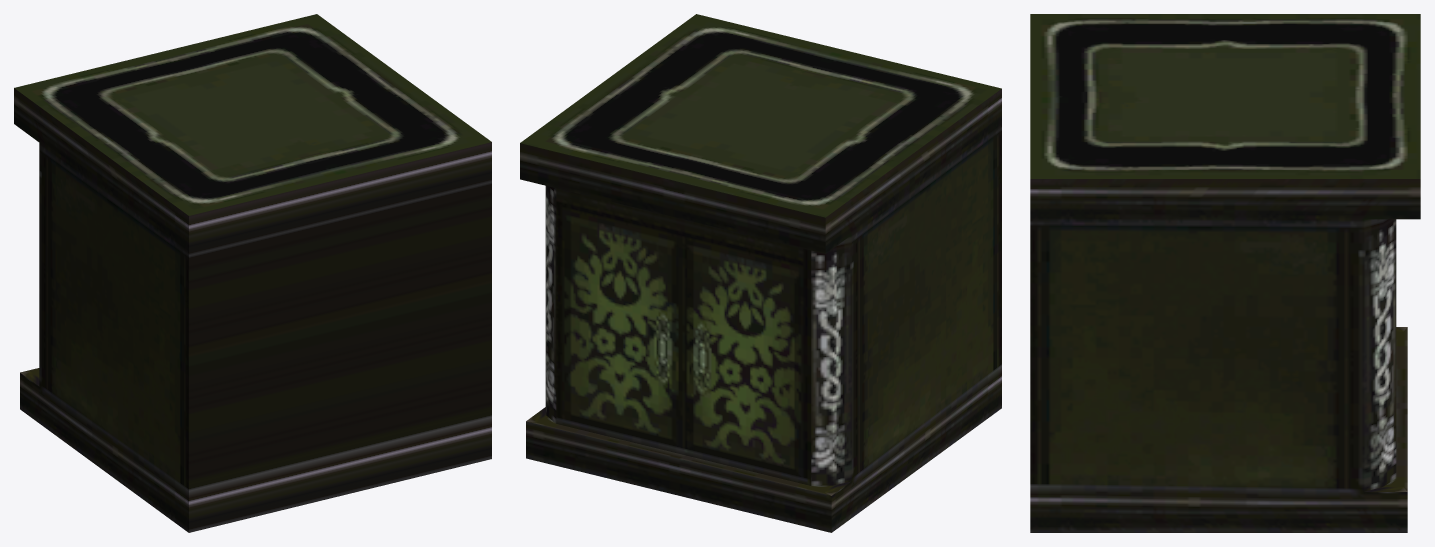
File: furni_0201226_03.FBX
3 renders of one model, left to right at view 1: azimuth 30°, elevation 25°; view 2: azimuth 150°, elevation 25°; view 3: azimuth 270°, elevation 25°, orthographic. The views are drawn at different scales.
Visible parts, largest first — view 1: furni_0201226_03; view 2: furni_0201226_03; view 3: furni_0201226_03.
Part boxes in pixels (left/top/right/bottom): furni_0201226_03: left=14, top=14, right=491, bottom=532; furni_0201226_03: left=520, top=14, right=1001, bottom=532; furni_0201226_03: left=1030, top=14, right=1420, bottom=532.
Bounding box in the file's own units: 80.04 × 80 × 80.
